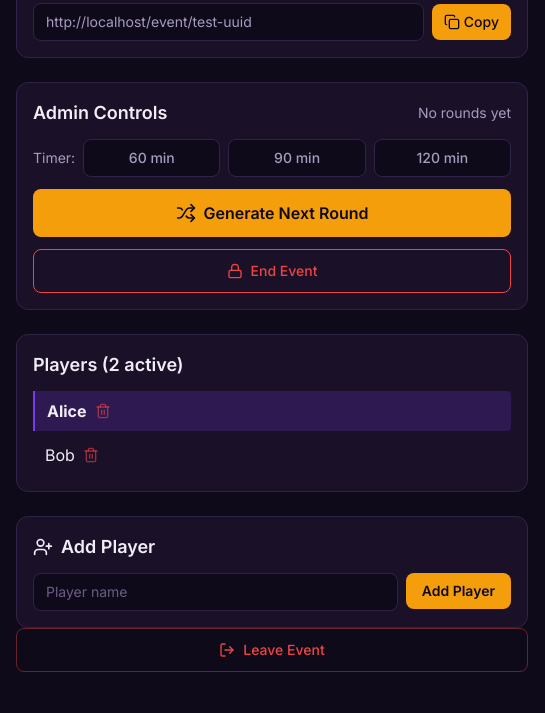
Test: Admin Add Player › shows validation error for short name
(page scrolled)
Type a single character (below 2-char minimum)
Type "A" into the field with test id "add-player-name-input".
click(216, 592); type("A")  # box left=33, top=573, right=398, bottom=611
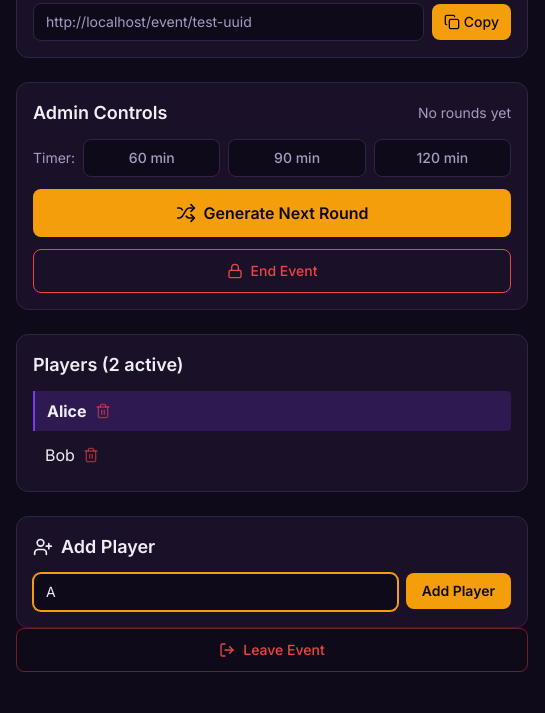
Click the button with test id "add-player-submit-btn".
click(459, 591)  # box left=406, top=573, right=511, bottom=609
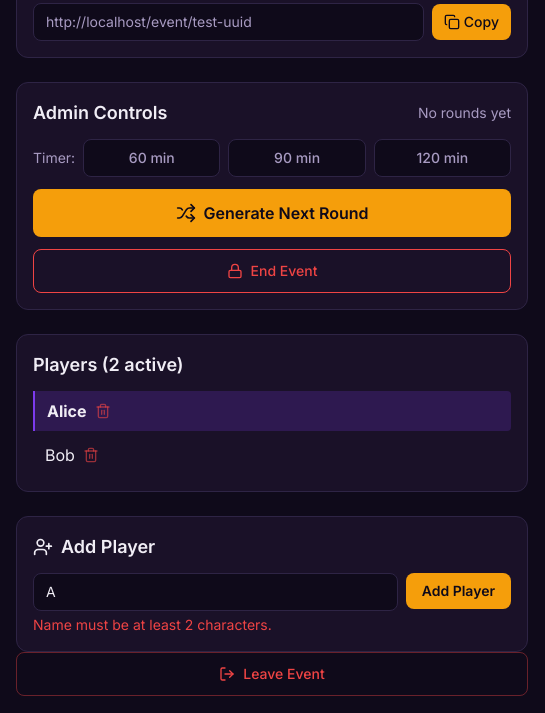
Now the text with test id "add-player-error" reads "Name must be at least 2 characters.", box left=33, top=616, right=272, bottom=633
